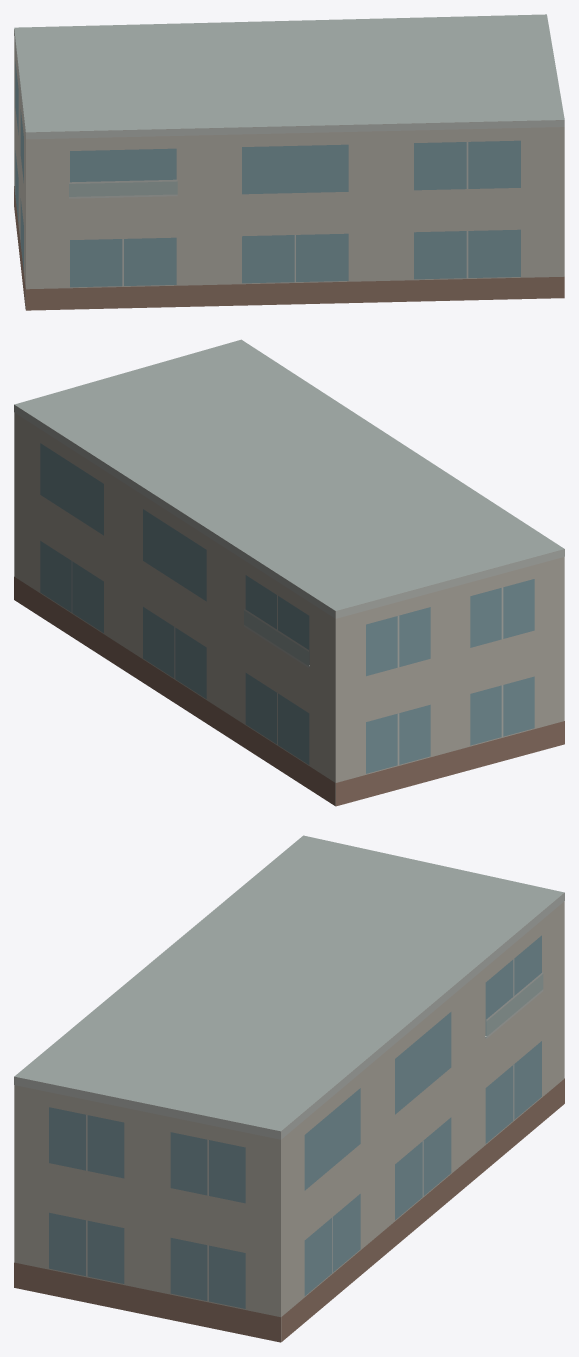
The model's file is survey-upis-32852770.glb.
3 renders of one model, top to bottom at view 1: azimuth 30°, elevation 25°; view 2: azimuth 150°, elevation 25°; view 3: azimuth 270°, elevation 25°, orthographic. The views are drawn at different scales.
Parts seen in each view (by area): view 1: survey-upis-32852770.tmp; view 2: survey-upis-32852770.tmp; view 3: survey-upis-32852770.tmp.
Boxes of the visible parts, x1=… form: survey-upis-32852770.tmp: x1=14, y1=14, x2=564, y2=310; survey-upis-32852770.tmp: x1=14, y1=339, x2=564, y2=806; survey-upis-32852770.tmp: x1=14, y1=835, x2=564, y2=1342.
Bounding box in the file's own units: 18.35 × 6.1 × 14.43.
